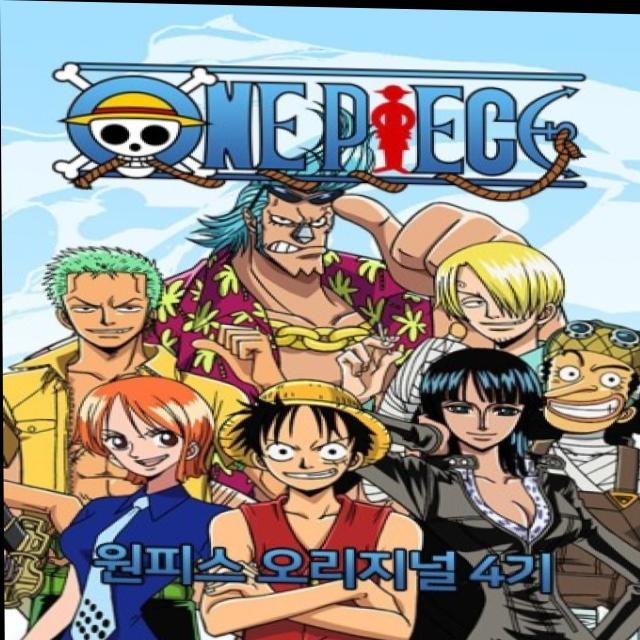Franky: (219, 177, 364, 281)
Luffy: (218, 367, 401, 504)
Nami: (60, 368, 230, 492)
NicoRobin: (414, 334, 542, 458)
Sangdi: (426, 240, 572, 347)
Usopp: (527, 313, 640, 438)
Zoro: (33, 243, 181, 359)
